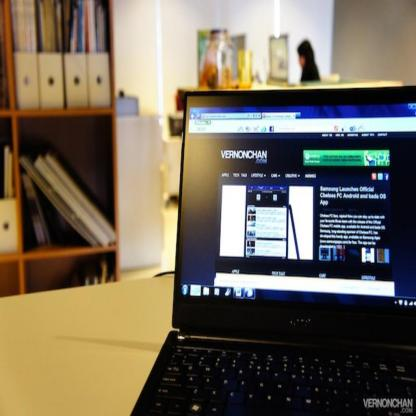board: (129, 84, 416, 415)
